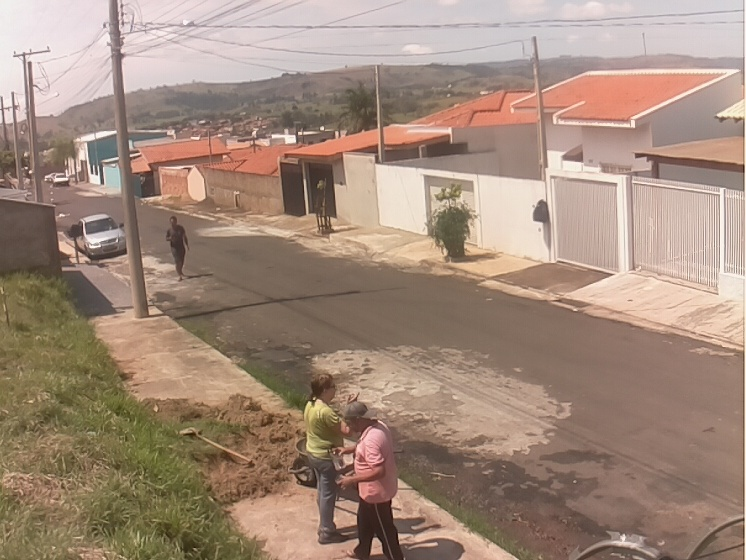person: (333, 400, 405, 560), (304, 373, 352, 544), (165, 216, 190, 283)
